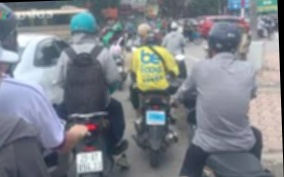Bien-so: (78, 143, 103, 164)
